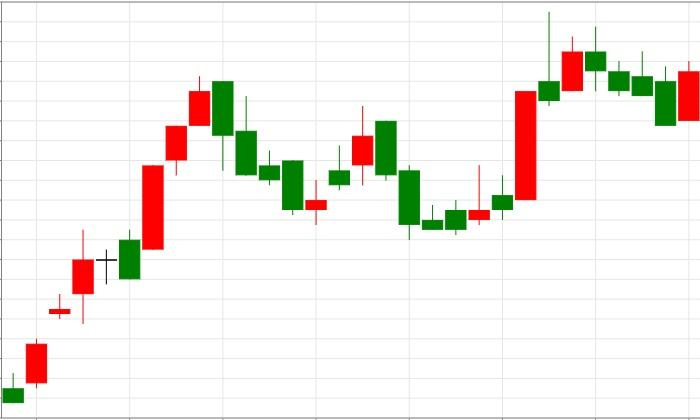shooting_star_fall: (422, 11, 560, 235)
